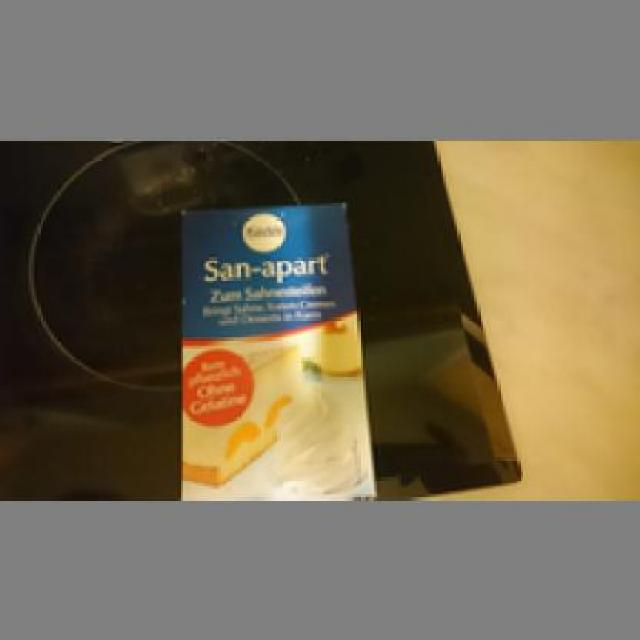Cake: (174, 197, 374, 497)
